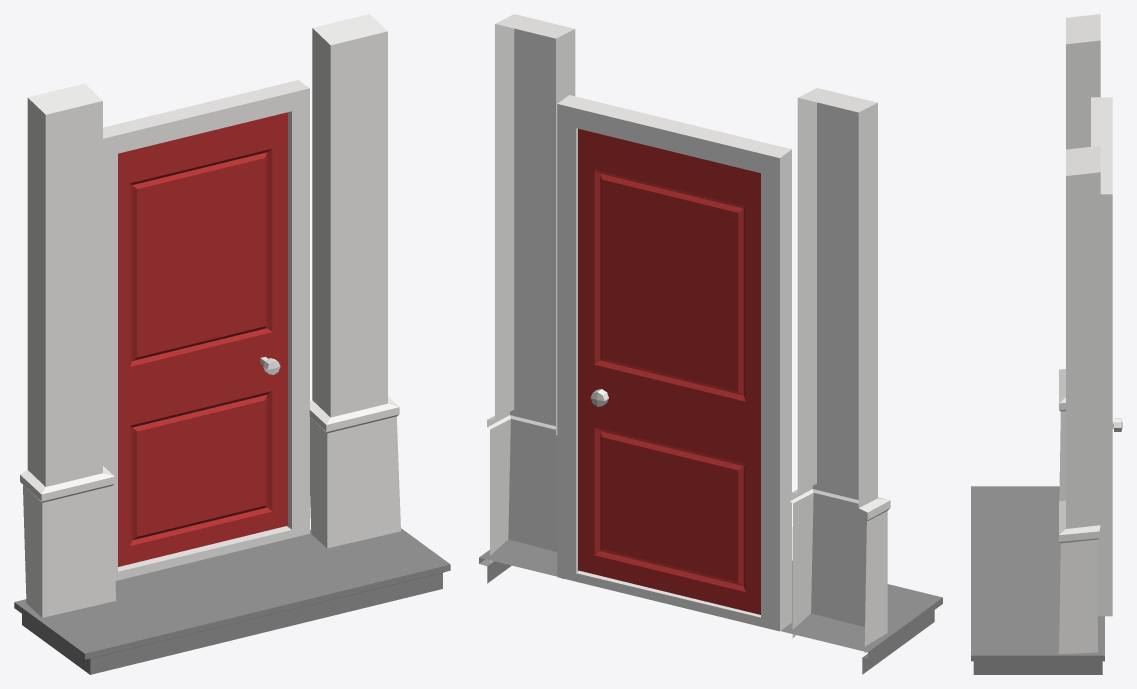
Rendered from Door_1.fbx.
3 views of the same model, side by side, from view 1: azimuth 30°, elevation 25°; view 2: azimuth 150°, elevation 25°; view 3: azimuth 270°, elevation 25° (orthographic). The views are drawn at different scales.
Visible parts, largest first — view 1: Door_1; view 2: Door_1; view 3: Door_1.
Boxes of the visible parts, <box> form: Door_1: <box>14,14,450,674</box>; Door_1: <box>479,14,942,674</box>; Door_1: <box>971,14,1122,674</box>.
Size of the model in its own units: 287 by 109 by 396.
